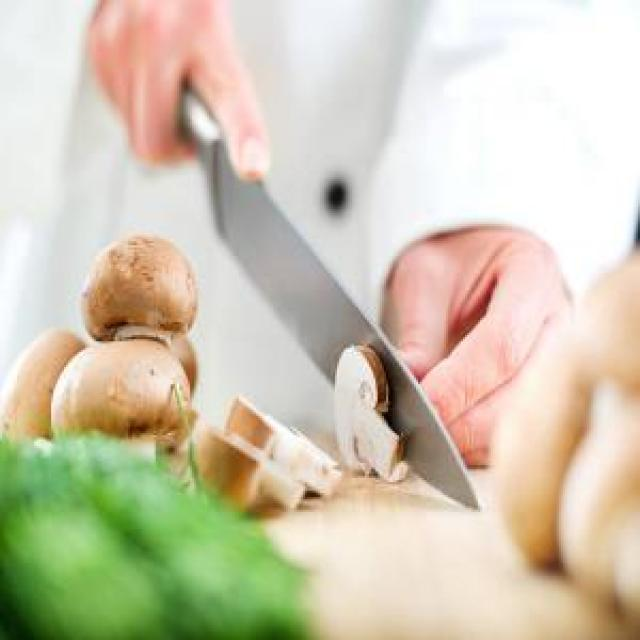knife: (160, 81, 483, 514)
